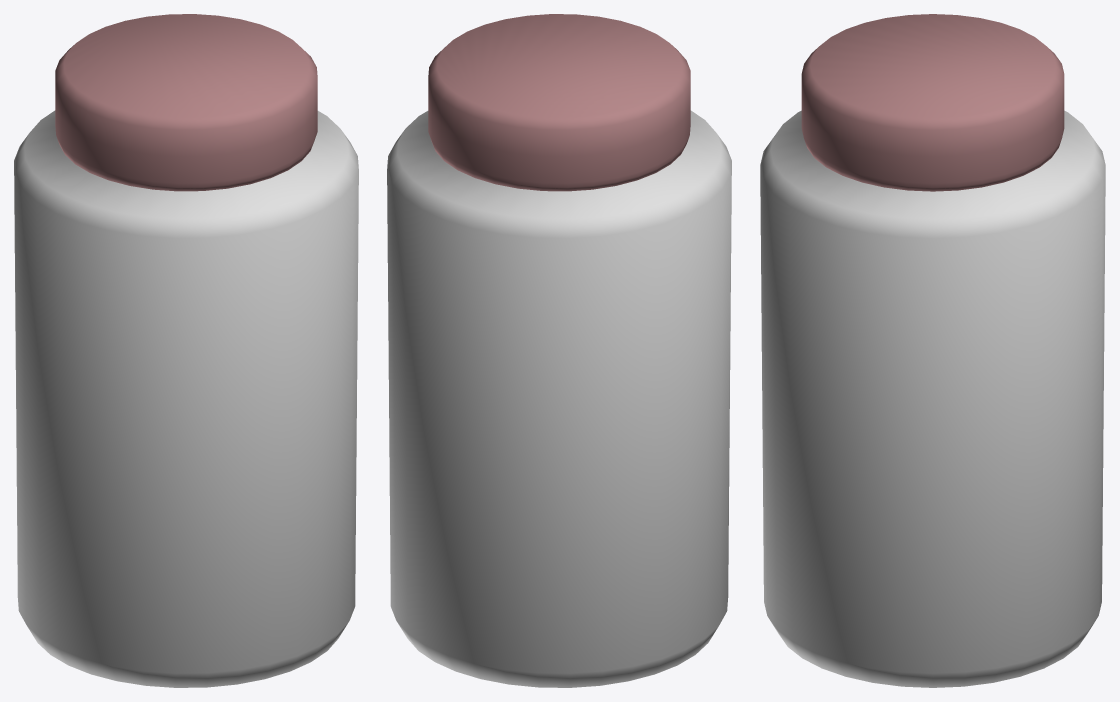
File: Tepung terigu fix.fbx
3 views of the same model, side by side, from view 1: azimuth 30°, elevation 25°; view 2: azimuth 150°, elevation 25°; view 3: azimuth 270°, elevation 25° (orthographic).
Visible parts, largest first — view 1: Cylinder, Cylinder.002; view 2: Cylinder, Cylinder.002; view 3: Cylinder, Cylinder.002.
Boxes of the visible parts, x1,y1,x2,y2 form: Cylinder: [14, 110, 358, 687]; Cylinder.002: [55, 14, 317, 191]; Cylinder: [387, 110, 731, 687]; Cylinder.002: [428, 14, 690, 191]; Cylinder: [760, 110, 1105, 687]; Cylinder.002: [801, 14, 1064, 191].
Bounding box in the file's own units: 13.35 × 23.69 × 13.35.
